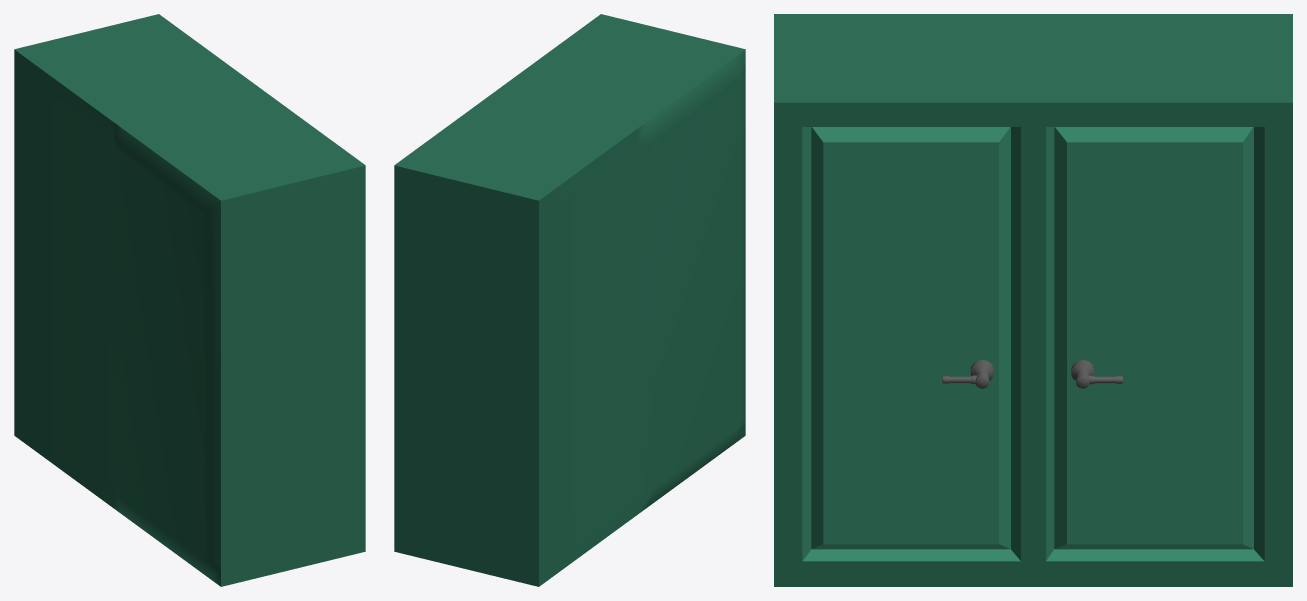
Rendered from Wardrobe.fbx.
3 renders of one model, left to right at view 1: azimuth 30°, elevation 25°; view 2: azimuth 150°, elevation 25°; view 3: azimuth 270°, elevation 25°, orthographic. The views are drawn at different scales.
Parts seen in each view (by area): view 1: Weardrob; view 2: Weardrob; view 3: Weardrob.
Part boxes in pixels (bbox=[...]): Weardrob: bbox=[14, 14, 365, 586]; Weardrob: bbox=[394, 14, 745, 586]; Weardrob: bbox=[774, 14, 1292, 586].
Bounding box in the file's own units: 1.64 × 3.55 × 3.45.
